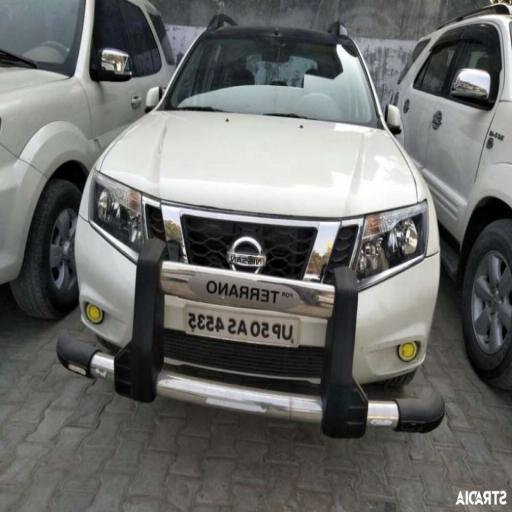License: (186, 301, 302, 350)
